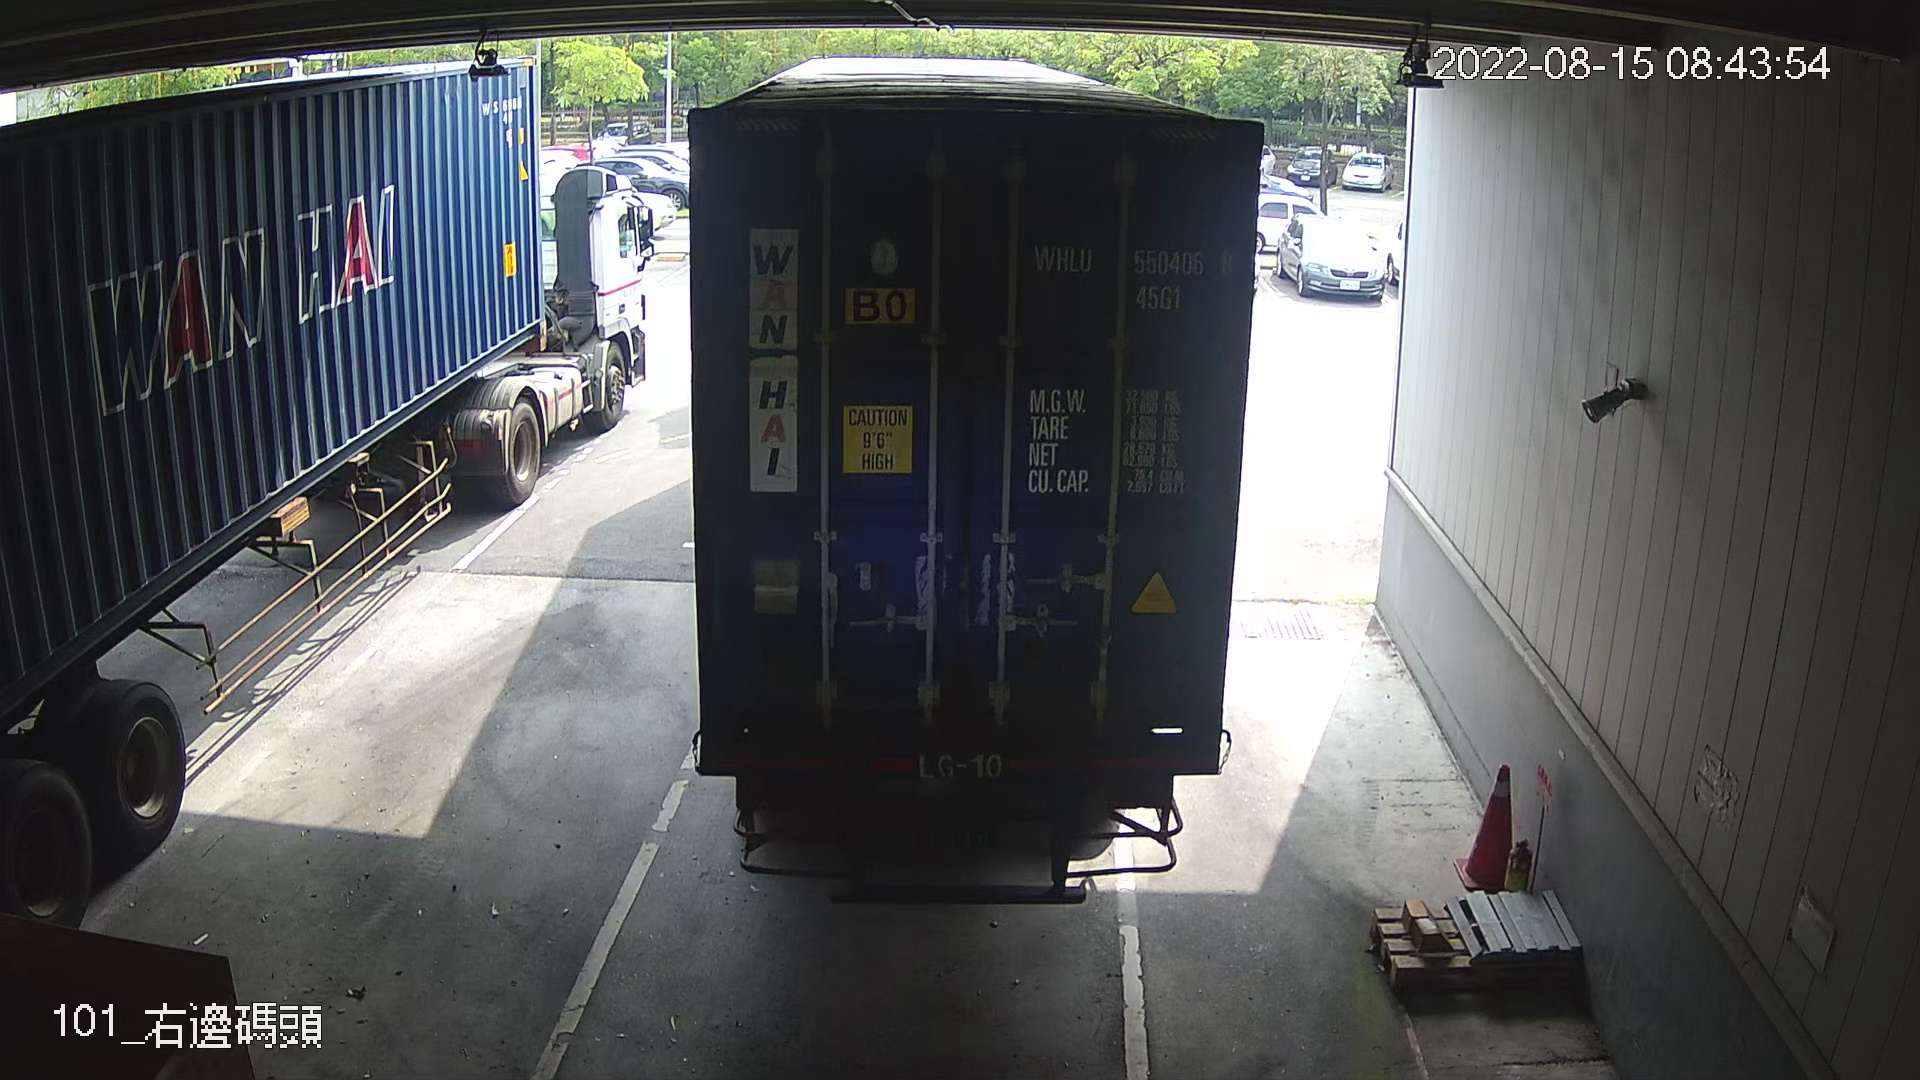container: (1023, 233, 1244, 326)
